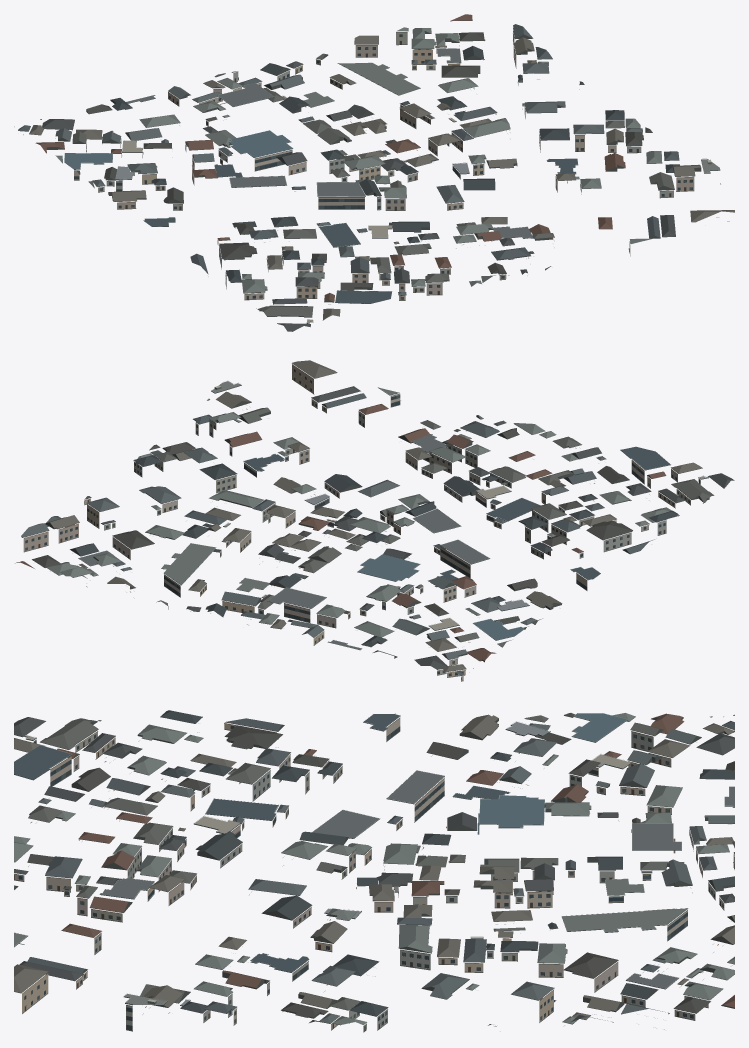
3 views of the same model, one above another, from view 1: azimuth 30°, elevation 25°; view 2: azimuth 150°, elevation 25°; view 3: azimuth 270°, elevation 25° (orthographic). The views are drawn at different scales.
Parts seen in each view (by area): view 1: r1-c2; view 2: r1-c2; view 3: r1-c2.
Part boxes in pixels (x1,y1,x2,y2): r1-c2: [14, 14, 734, 331]; r1-c2: [15, 360, 734, 681]; r1-c2: [14, 710, 734, 1032].
Bounding box in the file's own units: 250 × 12.53 × 250.
